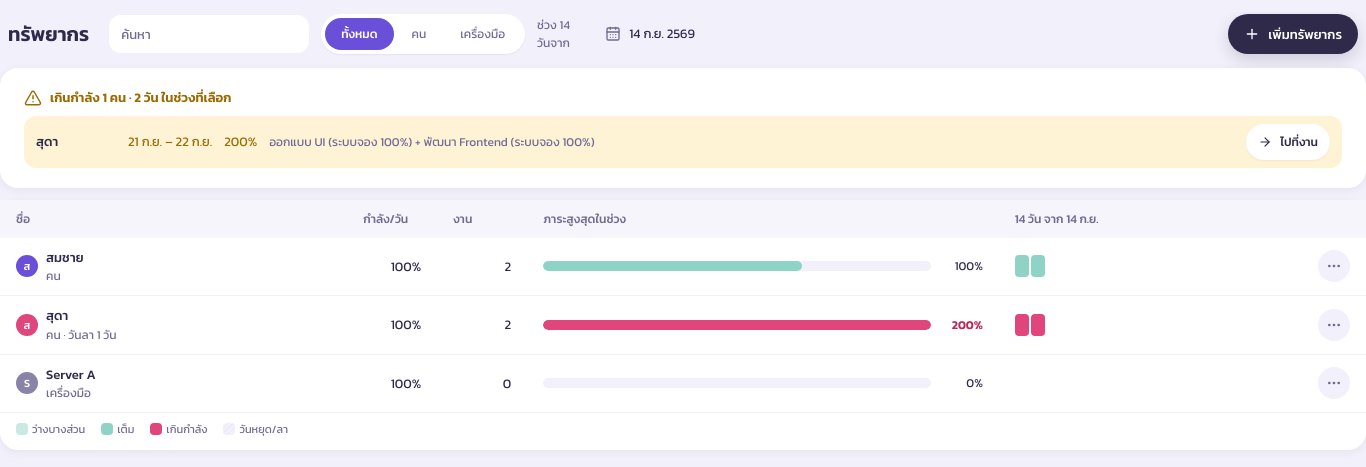
Scenario: ResourcesPage › lists resources with peak load, groups overallocation days and filters by type
The width and height of the screenshot is (1366, 467).
Expected: the row with test id "resource-row-r2" shows "สุดา", [46,306,68,325]
Expected: the row with test id "resource-row-r2" shows "วันลา 1 วัน", [61,326,116,344]
Click the radio button labelled "เครื่องมือ" at (483, 34), box [444,18,521,50]
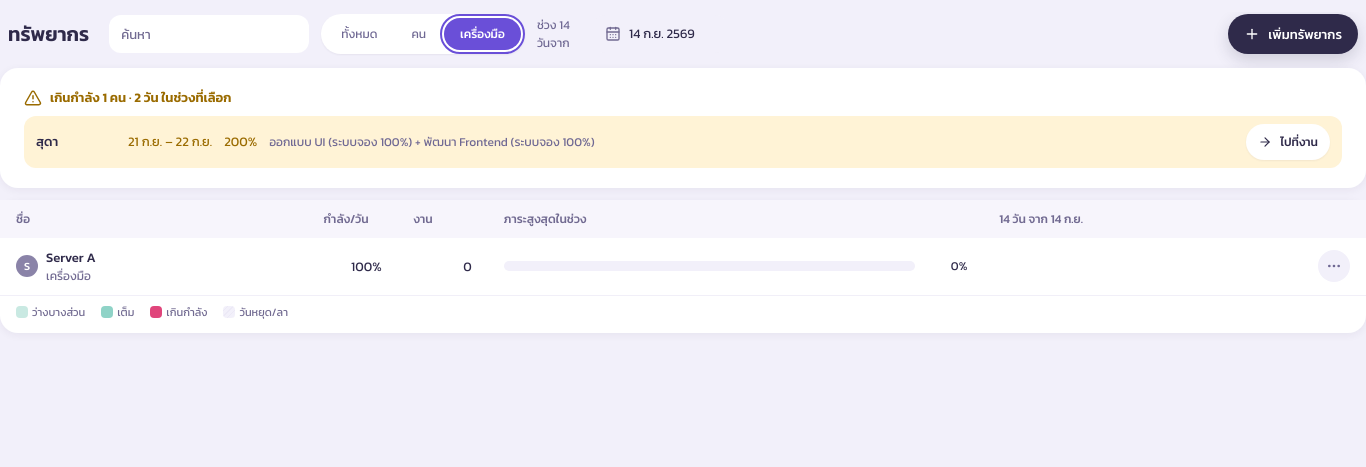
Expected: the row with test id "resource-row-r3" is shown, [0,238,1365,296]
Now the row with test id "resource-row-r2" is gone
